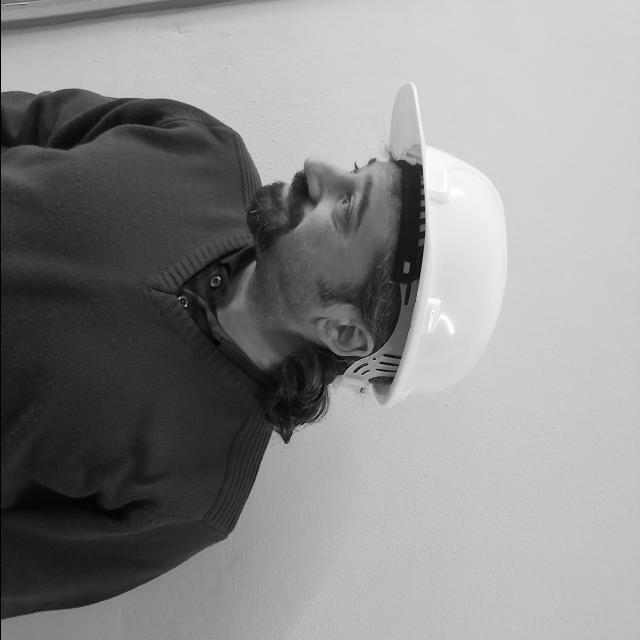construction helmet: (342, 81, 506, 407)
